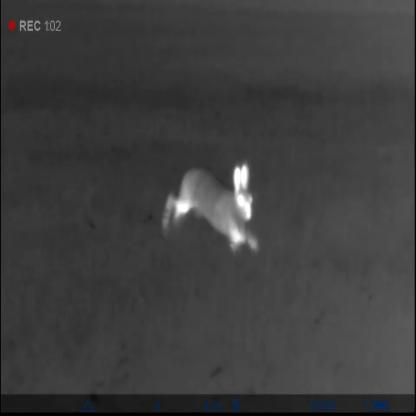rehkitze: (160, 160, 265, 256)
